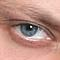eye: (20, 24, 37, 36)
